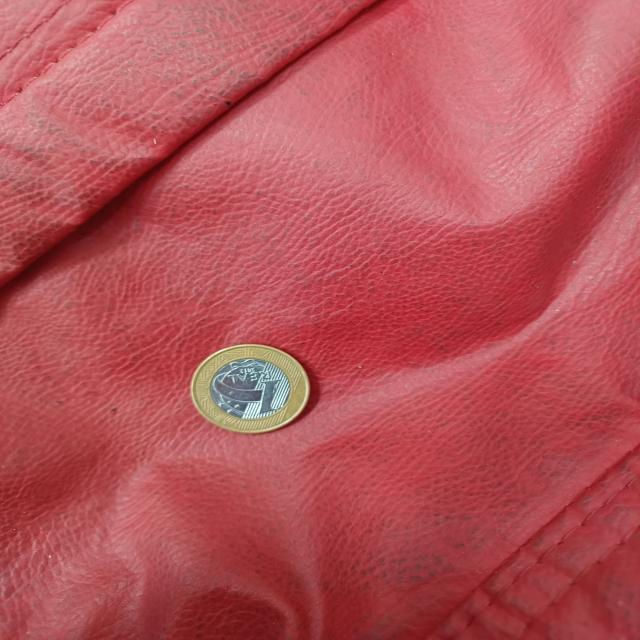1 real: (186, 340, 316, 436)
